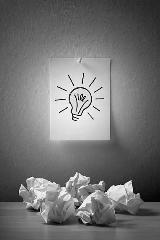paper: (50, 57, 110, 140), (19, 176, 61, 210), (76, 190, 116, 224), (36, 188, 74, 223), (105, 180, 144, 214), (66, 171, 90, 205), (77, 180, 105, 204)
